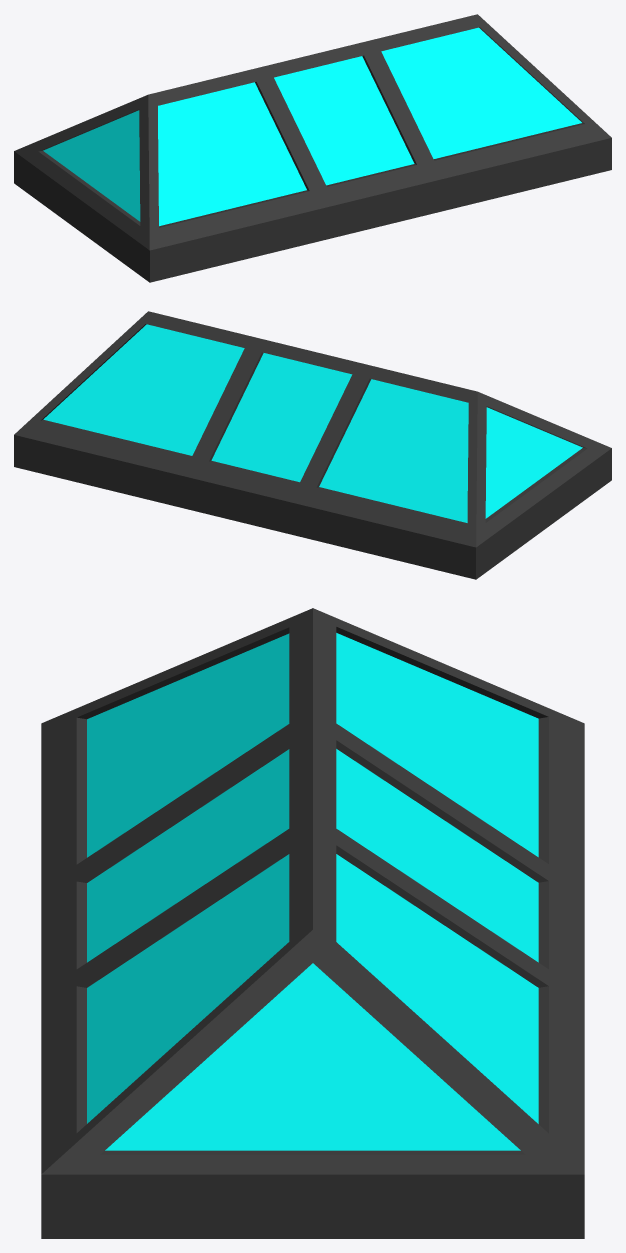
The model's file is roof_stuff.fbx.
3 renders of one model, top to bottom at view 1: azimuth 30°, elevation 25°; view 2: azimuth 150°, elevation 25°; view 3: azimuth 270°, elevation 25°, orthographic. The views are drawn at different scales.
Visible parts, largest first — view 1: Cube.035; view 2: Cube.035; view 3: Cube.035.
Boxes of the visible parts, <box> form: Cube.035: <box>14,14,611,282</box>; Cube.035: <box>14,311,611,579</box>; Cube.035: <box>41,608,584,1238</box>.
Bounding box in the file's own units: 393 × 99.32 × 200.
